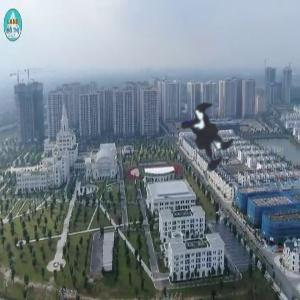drone: (141, 71, 273, 203)
